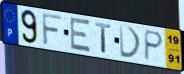9: (19, 9, 39, 46)
D: (118, 24, 143, 60)
E: (70, 16, 92, 54)
F: (41, 12, 63, 47)
P: (143, 29, 165, 62)
T: (94, 21, 113, 55)
